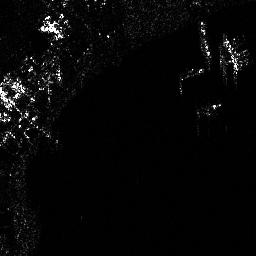ship: (199, 20, 212, 64)
